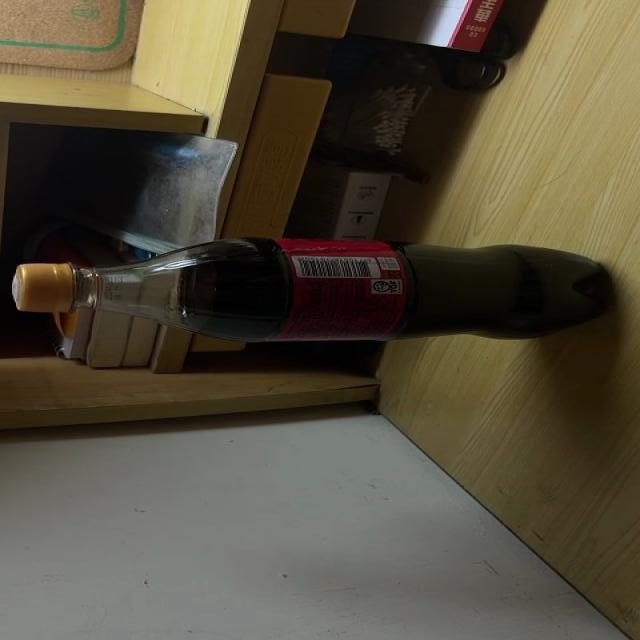Coca-Cola: (12, 239, 621, 341)
